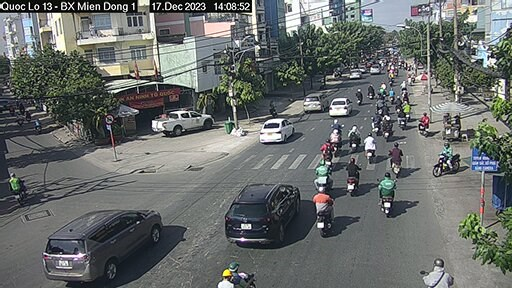car: (40, 206, 166, 285), (223, 182, 301, 246), (154, 109, 217, 138), (259, 117, 299, 145), (297, 92, 330, 115), (330, 99, 353, 116), (347, 68, 365, 82)
motorbike: (430, 139, 467, 182), (313, 188, 339, 236), (375, 170, 398, 214), (7, 171, 32, 206), (340, 158, 363, 196), (315, 143, 340, 170), (387, 143, 406, 175), (365, 133, 382, 166), (394, 106, 413, 133), (345, 124, 363, 151)
